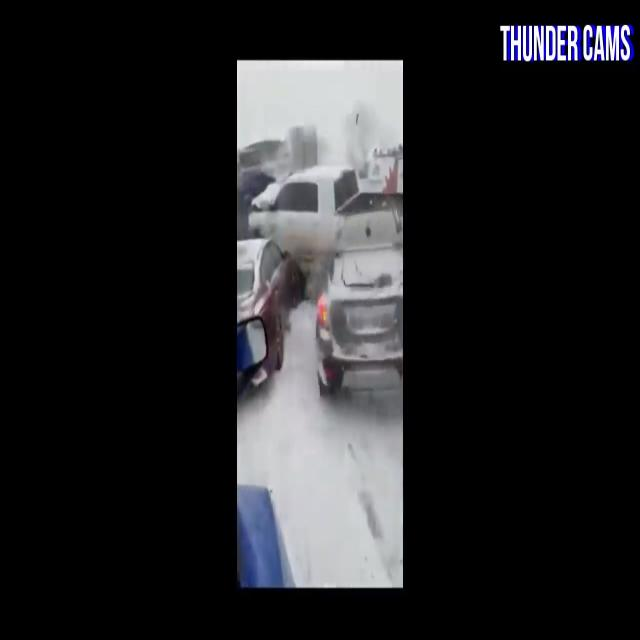accident: (234, 178, 330, 338)
